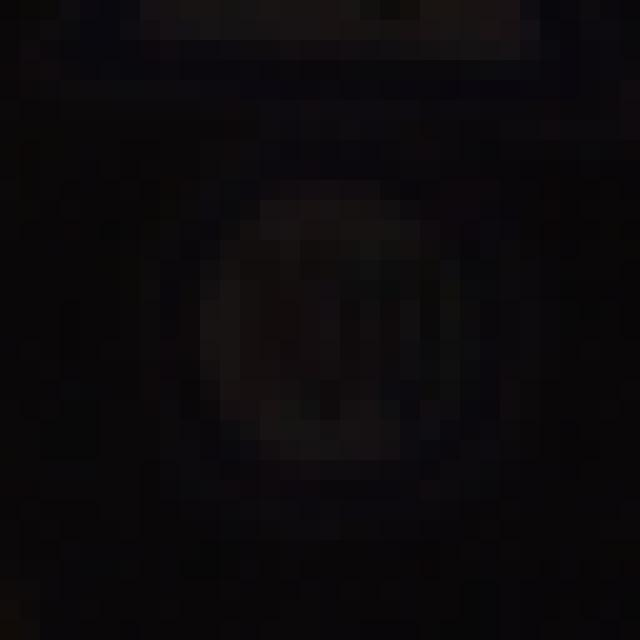SPEED LIMIT 100: (140, 161, 522, 495)
